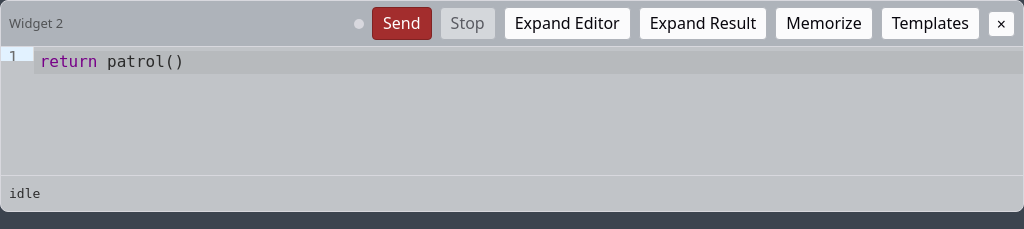
Test case: Widget › FEAT-SAVE-WIDGET-FILE: header right-click menu › "Save as…" writes the editor text and updates the header name
Step 1. Right-click the element with class "widget-header" → point(512, 24), box [1,1,1023,47]
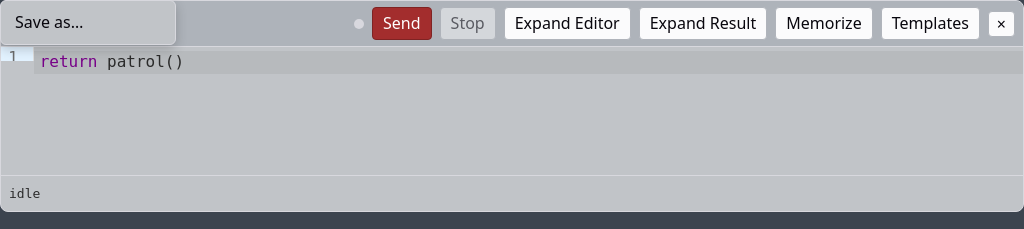
Step 2. Click the menu item "Save as…" → point(88, 23), box [5,5,171,40]
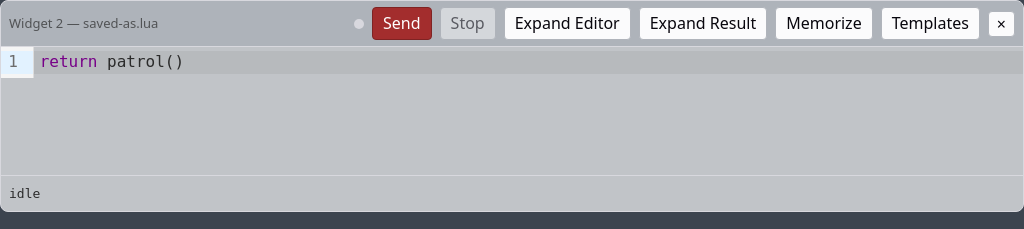
Expected: the text box labelled "return patrol()" is shown, [34,51,1023,74]
Expected: the text "Widget 2 — saved-as.lua" is shown, [9,12,158,35]
